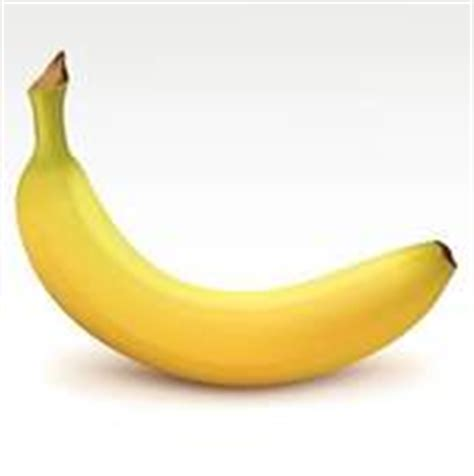???: (15, 51, 458, 387)
